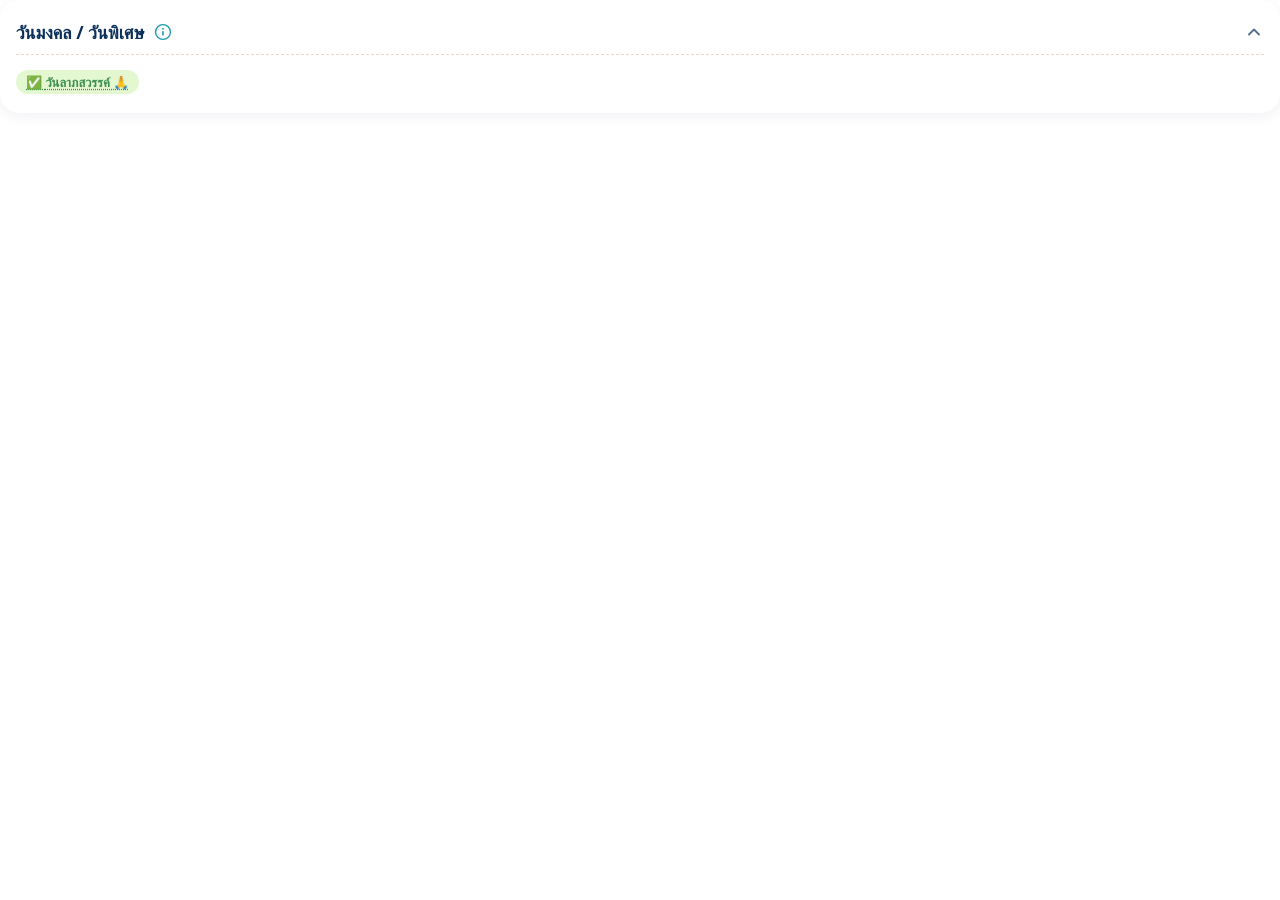
Scenario: SpecialDays interactive › วันลาภสวรรค์ → โชว์ทิศมงคลที่ส่งเข้ามา
Click the button with test id "special-day-open" at (78, 81), box [16,69,139,93]
(page scrolled)
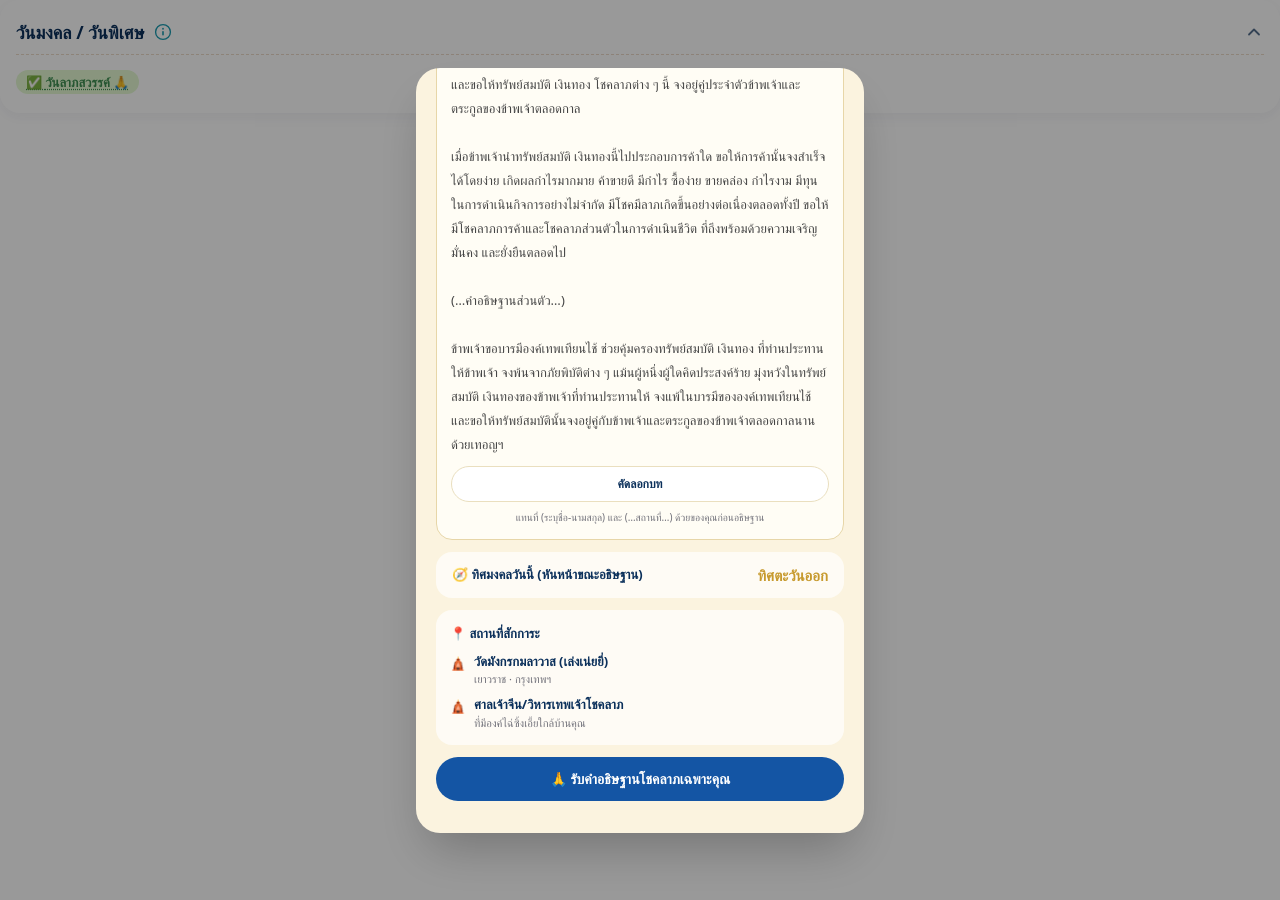
Expected: the element with test id "special-day-direction" shows "ทิศตะวันออก", [757,564,828,584]
